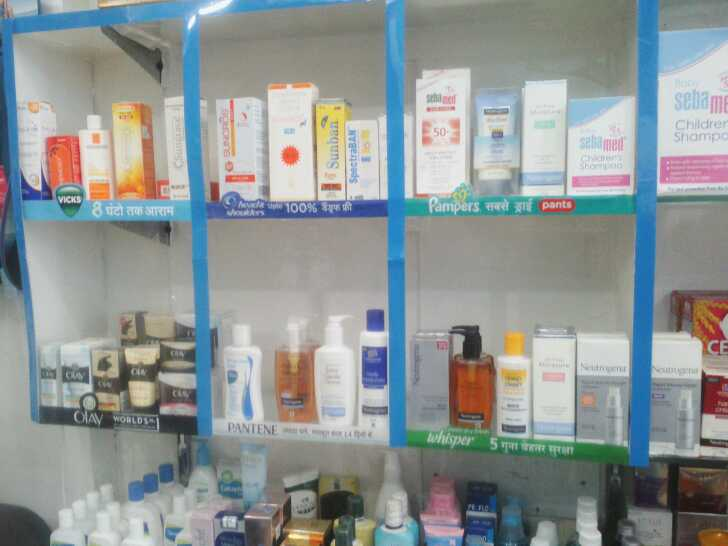olay: (155, 366, 197, 420), (87, 346, 122, 410), (124, 348, 159, 411), (61, 348, 93, 410), (34, 341, 60, 405), (160, 339, 197, 368)
